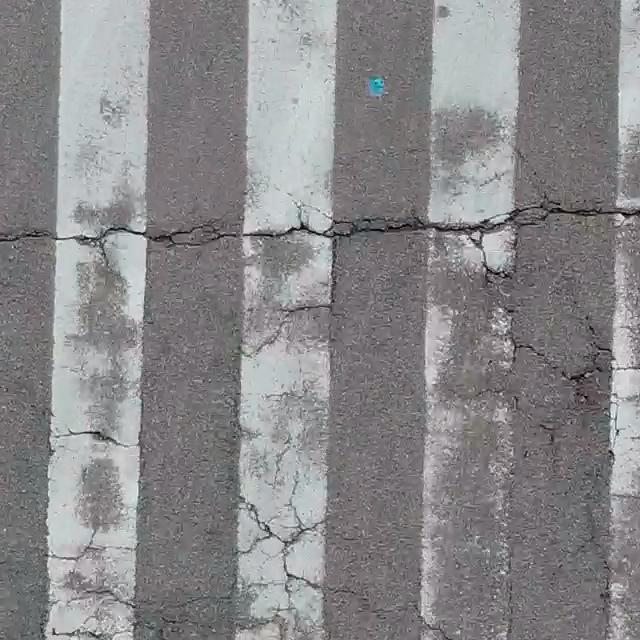GRIETA: (0, 199, 639, 249), (240, 302, 328, 359), (328, 241, 337, 303)
PIEL DE COCODRILO: (445, 302, 639, 522), (223, 456, 363, 639), (16, 532, 209, 639)
